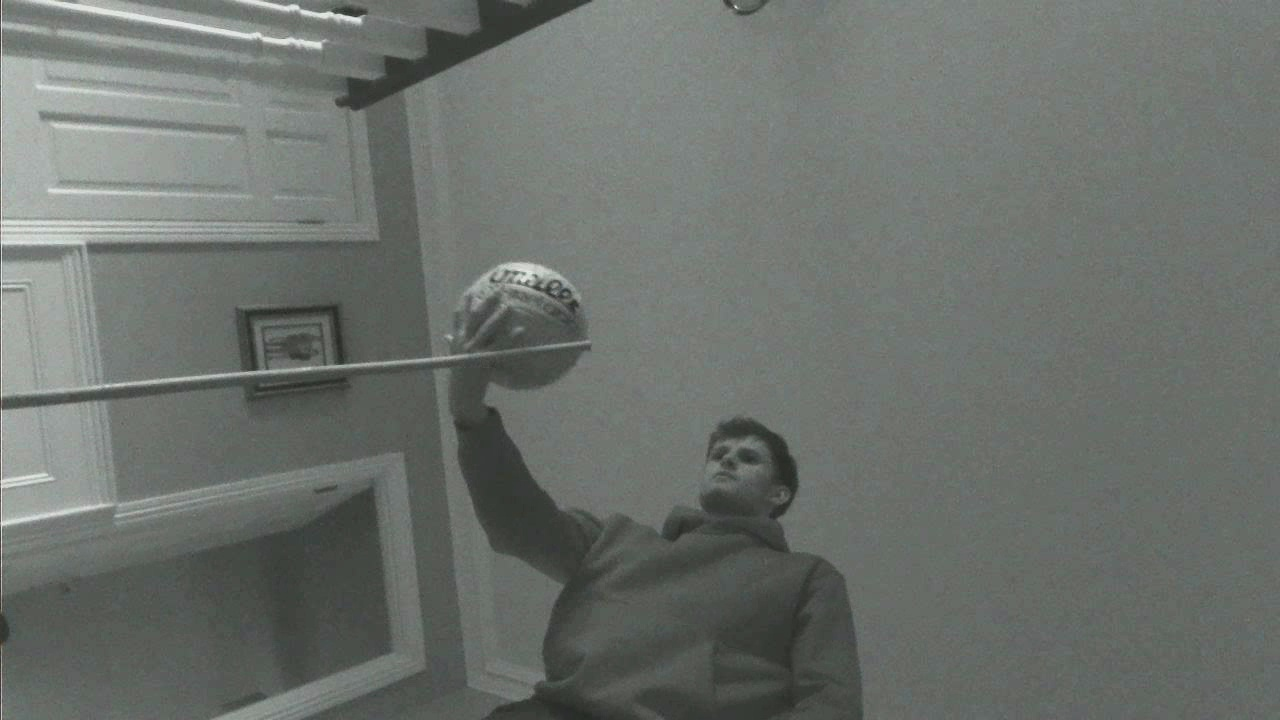Football-Spotter: (459, 262, 586, 344), (494, 356, 575, 388)
